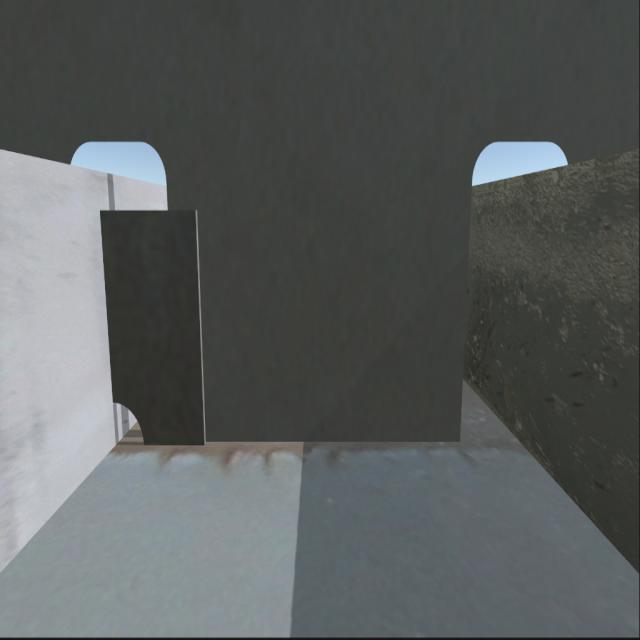fillet_hole: (111, 407, 155, 448)
fillet_yong_jeop_jang: (144, 435, 460, 450)
longi_yong_jeop_jang: (103, 209, 121, 407)
plate_CP01: (112, 207, 200, 436)
